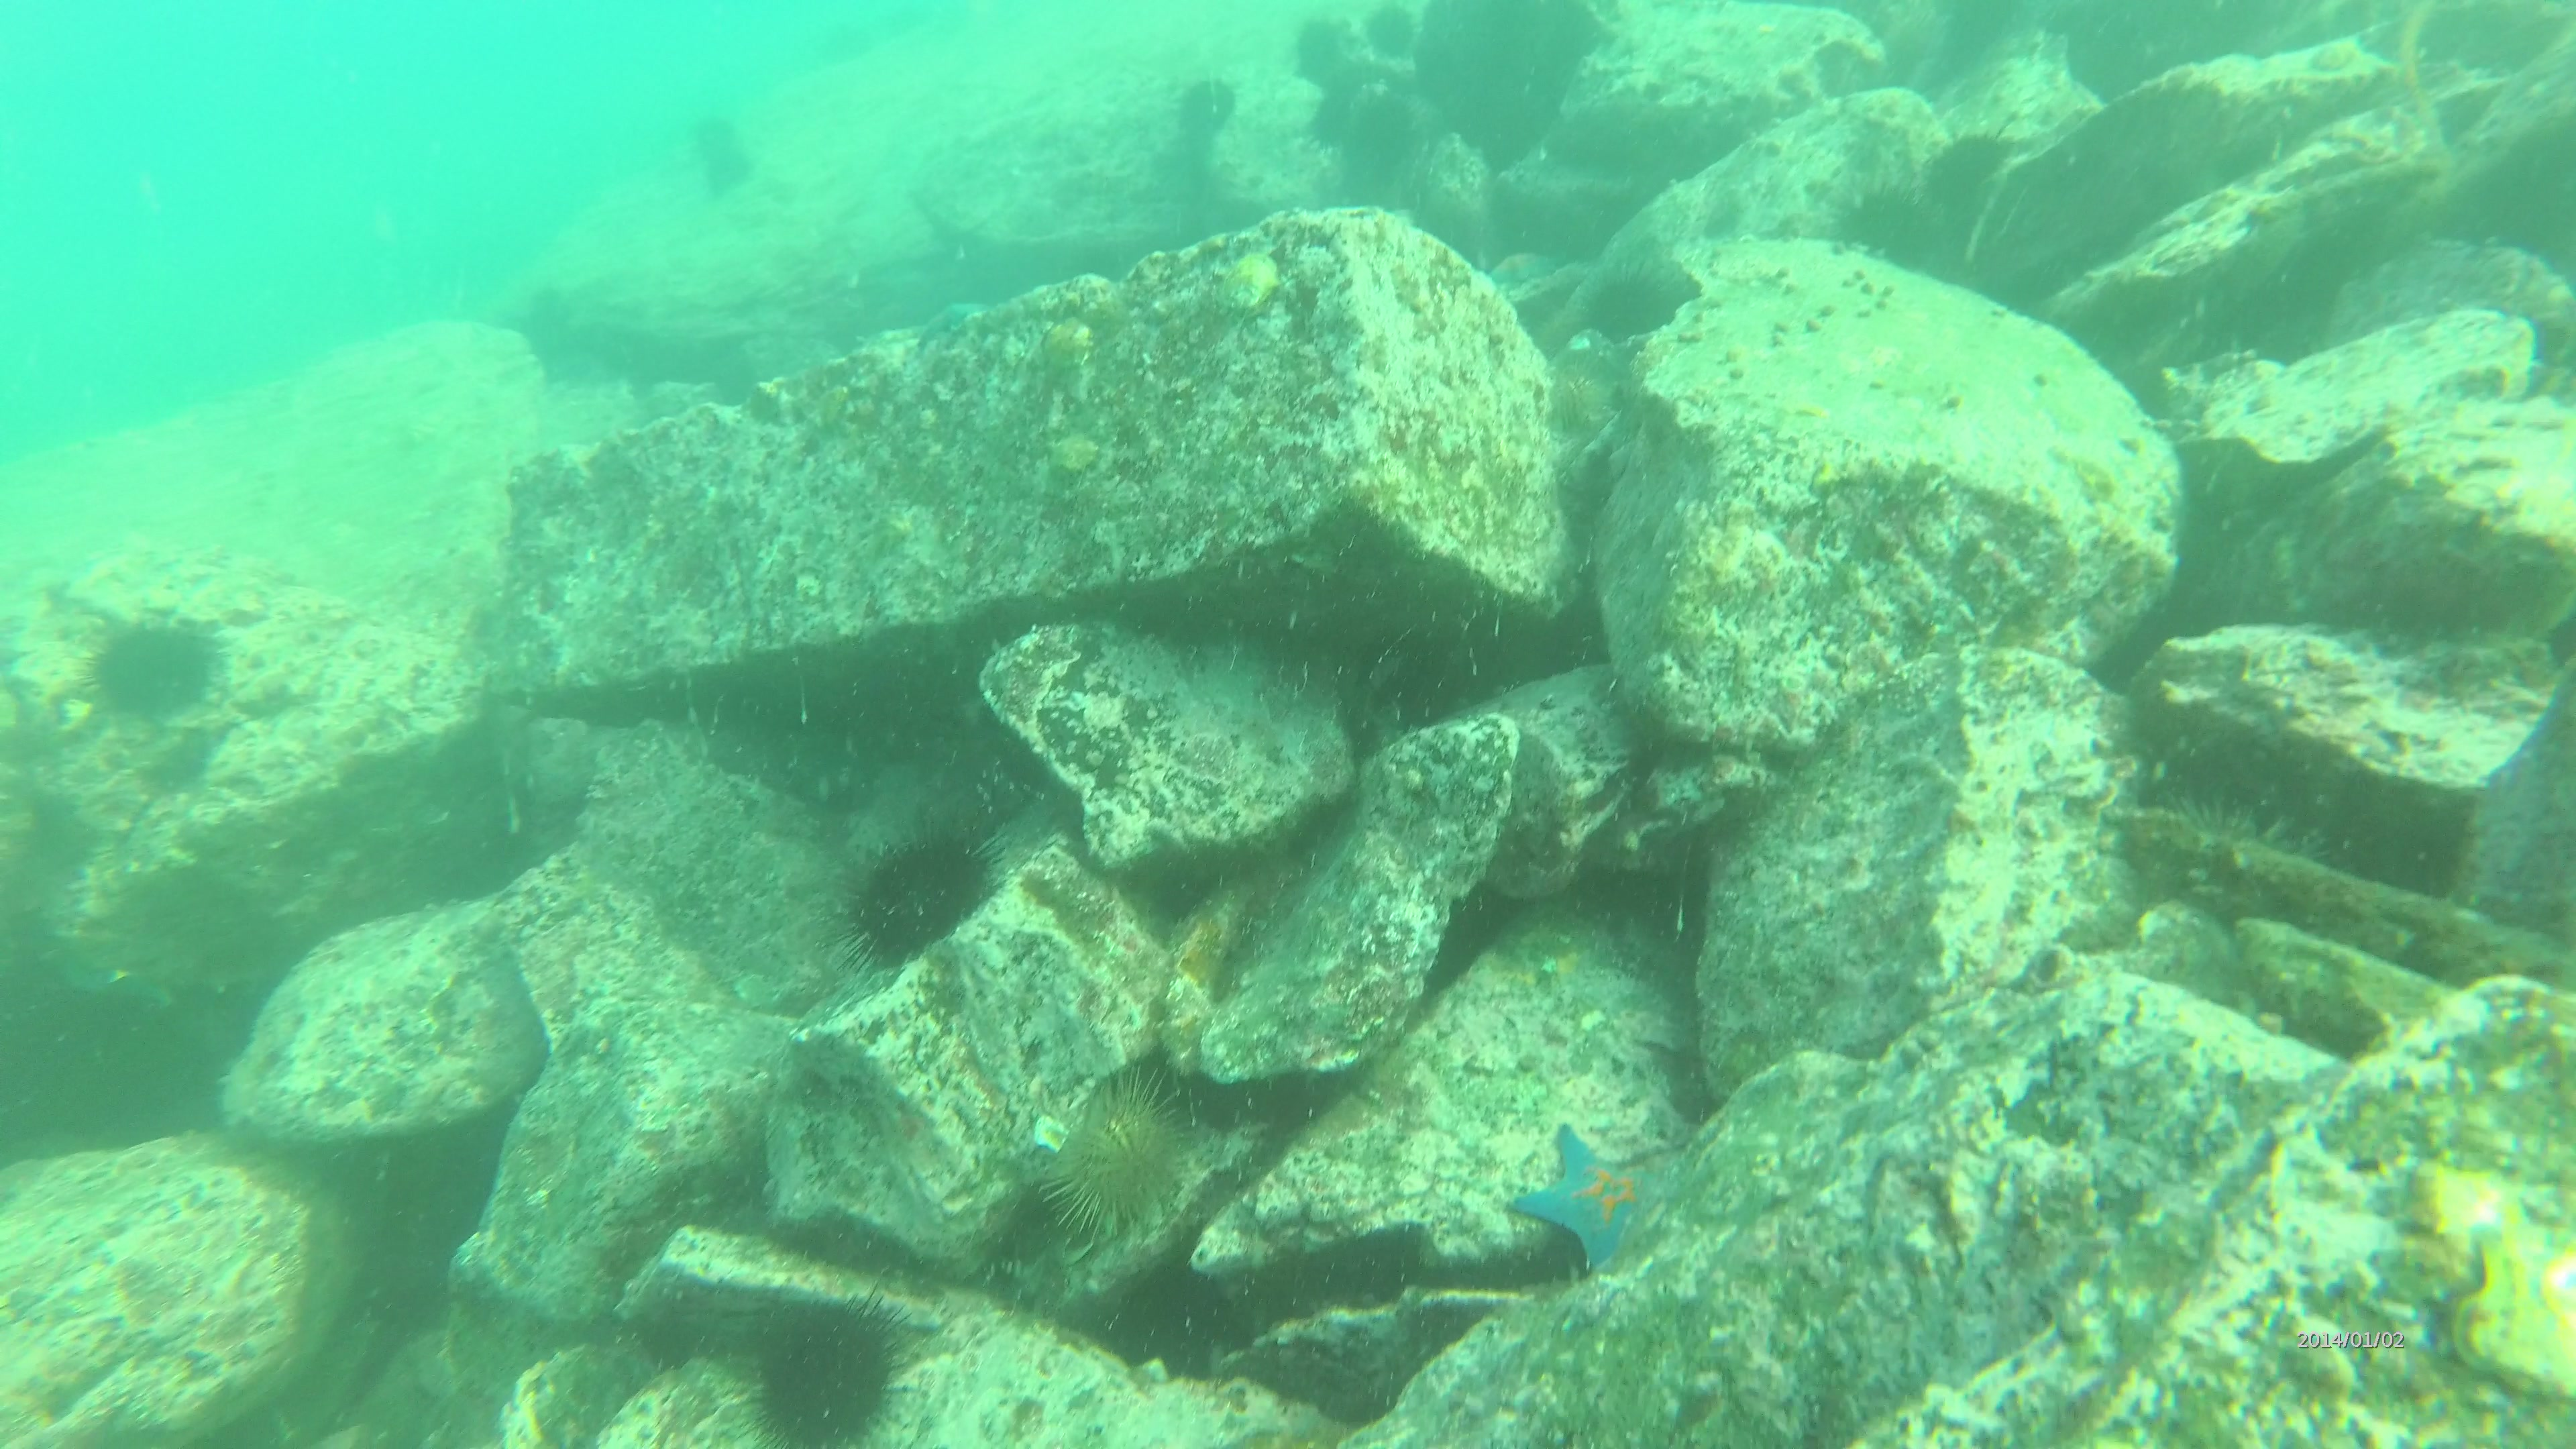echinus: (826, 812, 1021, 989), (1030, 1067, 1210, 1246), (741, 1290, 920, 1449), (73, 607, 230, 718), (1580, 255, 1688, 352), (1341, 81, 1424, 196), (688, 103, 770, 191), (1290, 12, 1357, 87), (1180, 69, 1242, 149), (1371, 0, 1428, 58)
scallop: (1031, 308, 1108, 377), (1214, 246, 1284, 313)
starfish: (1502, 1116, 1684, 1279)
